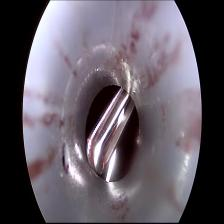Grasper: (88, 90, 134, 177)
